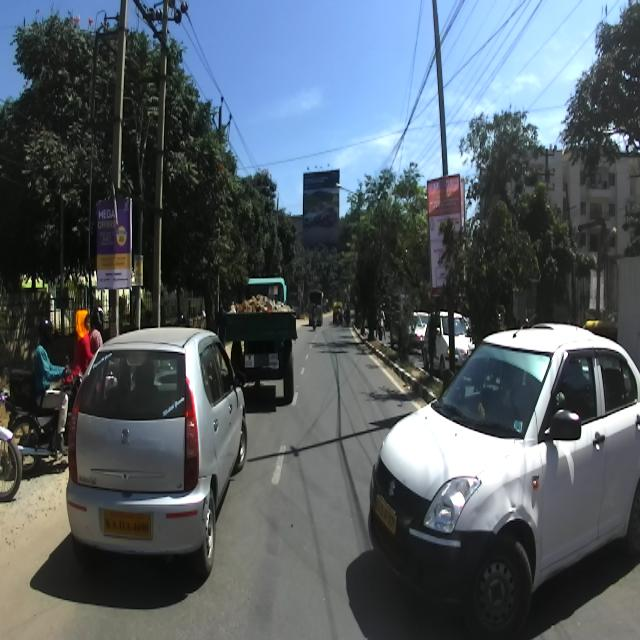car ahead at: (376, 321, 640, 627), (64, 320, 250, 580)
